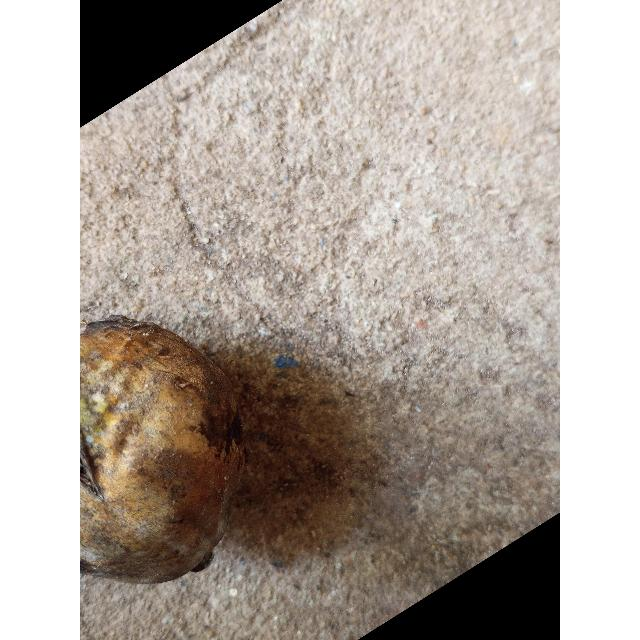damaged: (80, 317, 245, 585)
